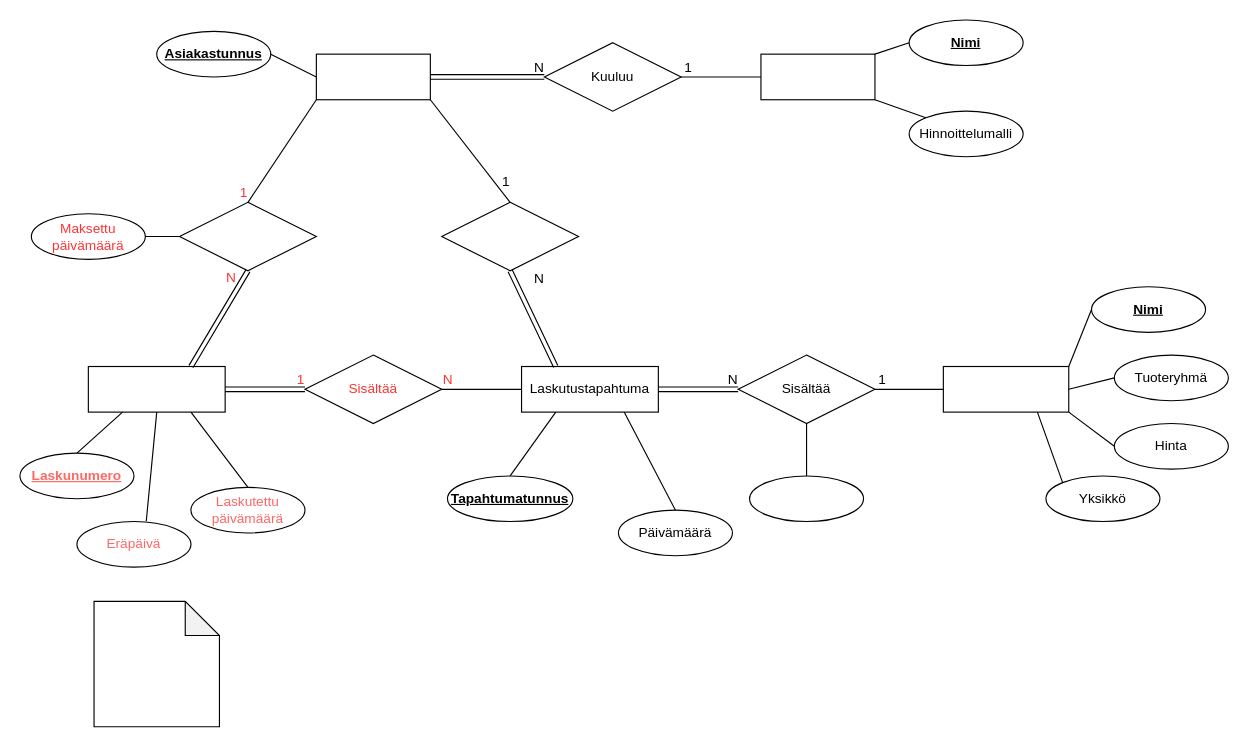
This 1248x747 diagram has some shape labels left out. Each missing label, with the centre of its shape:
"Asiakas" goes at (372,76).
"Asiakasryhmä" goes at (817,76).
"Kappalemäärä" goes at (806,498).
"Lasku" goes at (156,388).
"Lasku ei ole mukana Java-esimerkissä" goes at (156,663).
"Liittyy" goes at (510,236).
"Maksaa" goes at (247,236).
"Tuote" goes at (1005,388).
